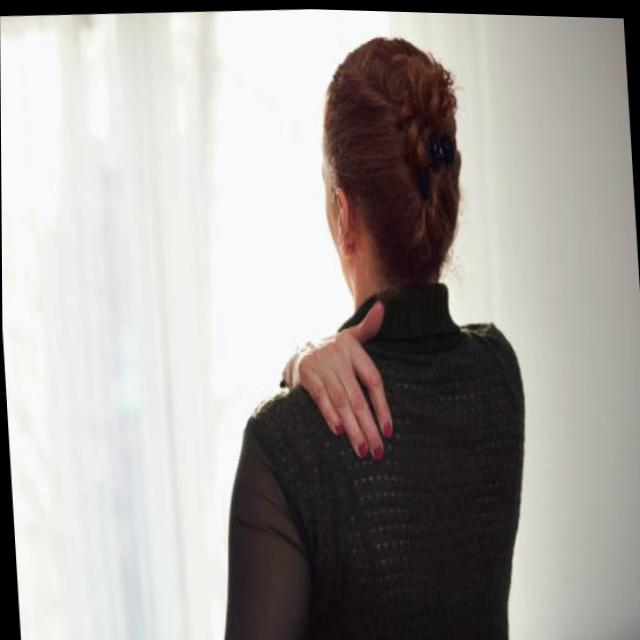no helmet: (312, 30, 477, 324)
